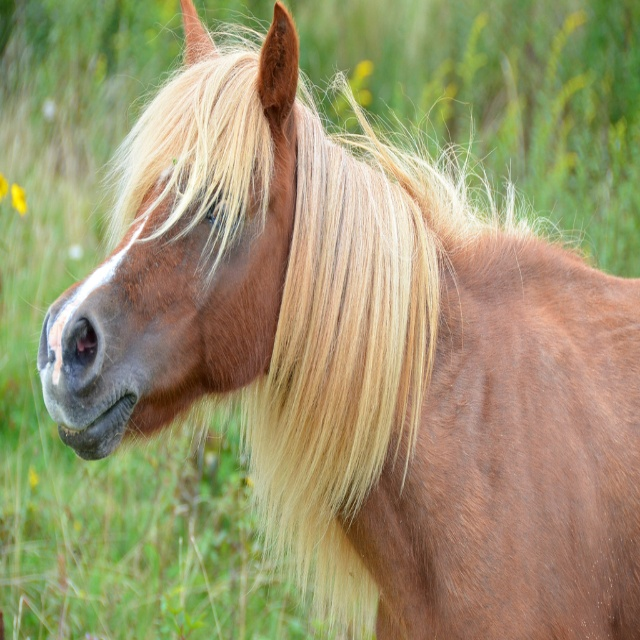Horse: (36, 0, 640, 639)
